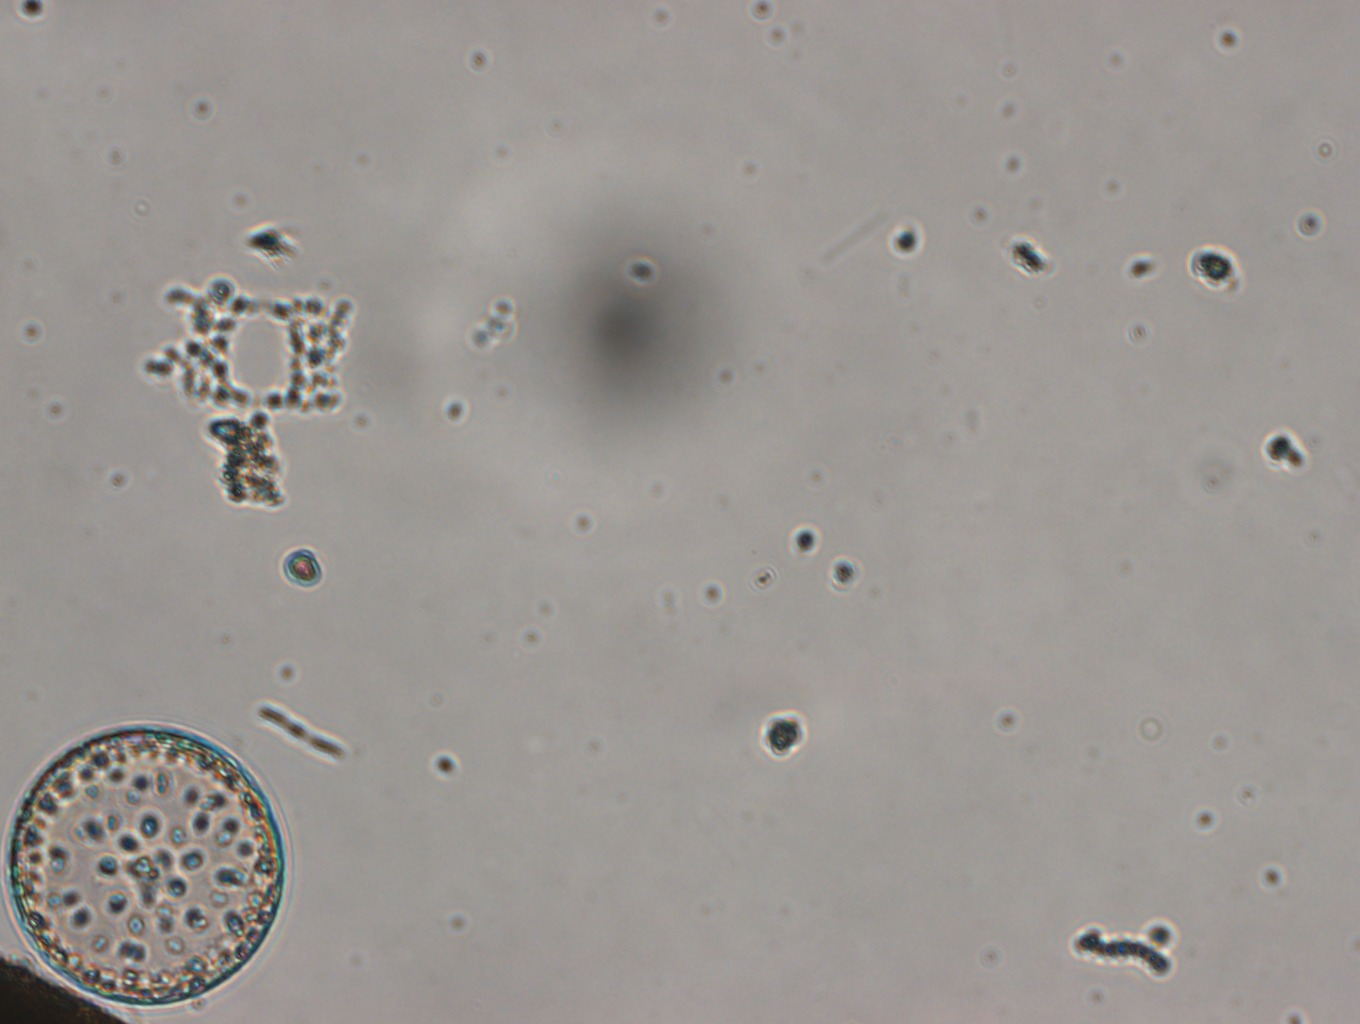coscinodiscus: (1, 722, 282, 1006)
